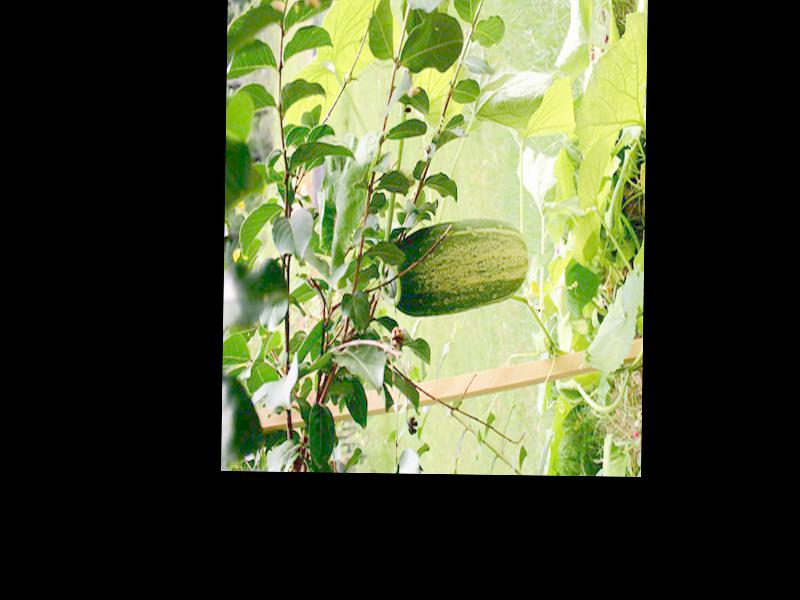Cucumber: (379, 219, 529, 320)
